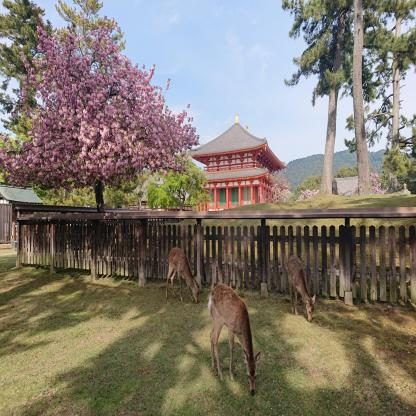YaeSakura: (0, 4, 203, 182), (352, 170, 388, 198), (269, 170, 292, 206), (294, 190, 322, 202)
